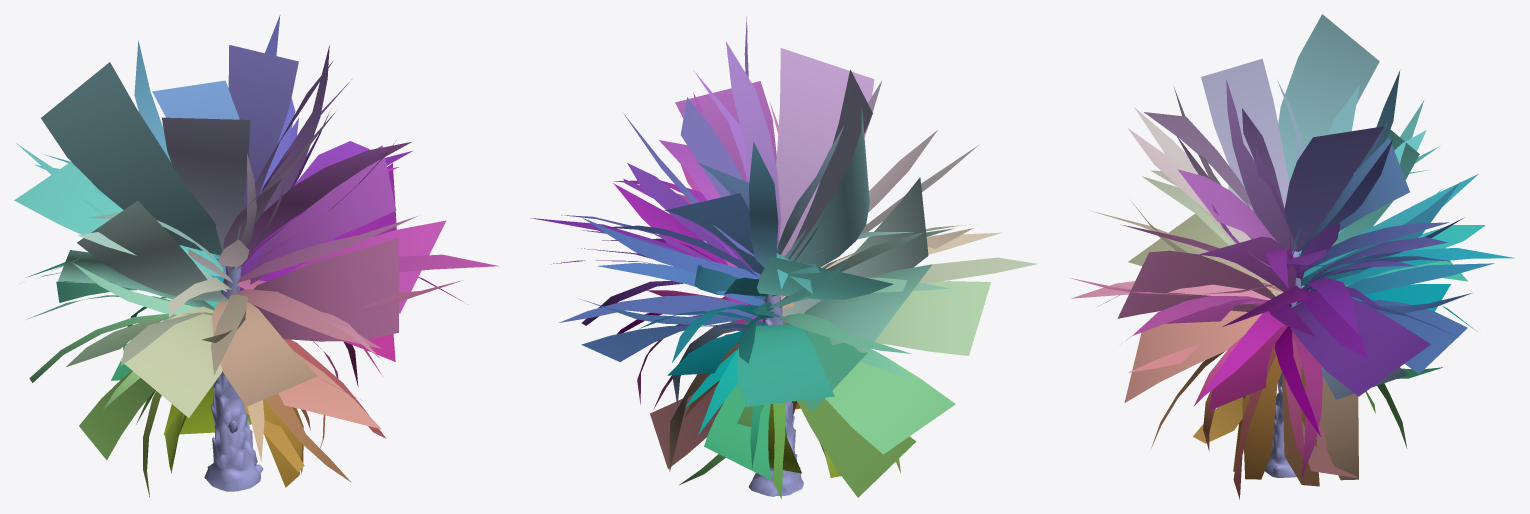
3 views of the same model, side by side, from view 1: azimuth 30°, elevation 25°; view 2: azimuth 150°, elevation 25°; view 3: azimuth 270°, elevation 25° (orthographic). The views are drawn at different scales.
Parts seen in each view (by area): view 1: SM_BS_YuccaMA1_2m_HD; view 2: SM_BS_YuccaMA1_2m_HD; view 3: SM_BS_YuccaMA1_2m_HD.
Boxes of the visible parts, left/top/right/bottom form: SM_BS_YuccaMA1_2m_HD: left=14, top=15, right=499, bottom=499; SM_BS_YuccaMA1_2m_HD: left=530, top=16, right=1037, bottom=499; SM_BS_YuccaMA1_2m_HD: left=1068, top=14, right=1514, bottom=499.
Bounding box in the file's own units: 71.9 × 71.52 × 74.13.
